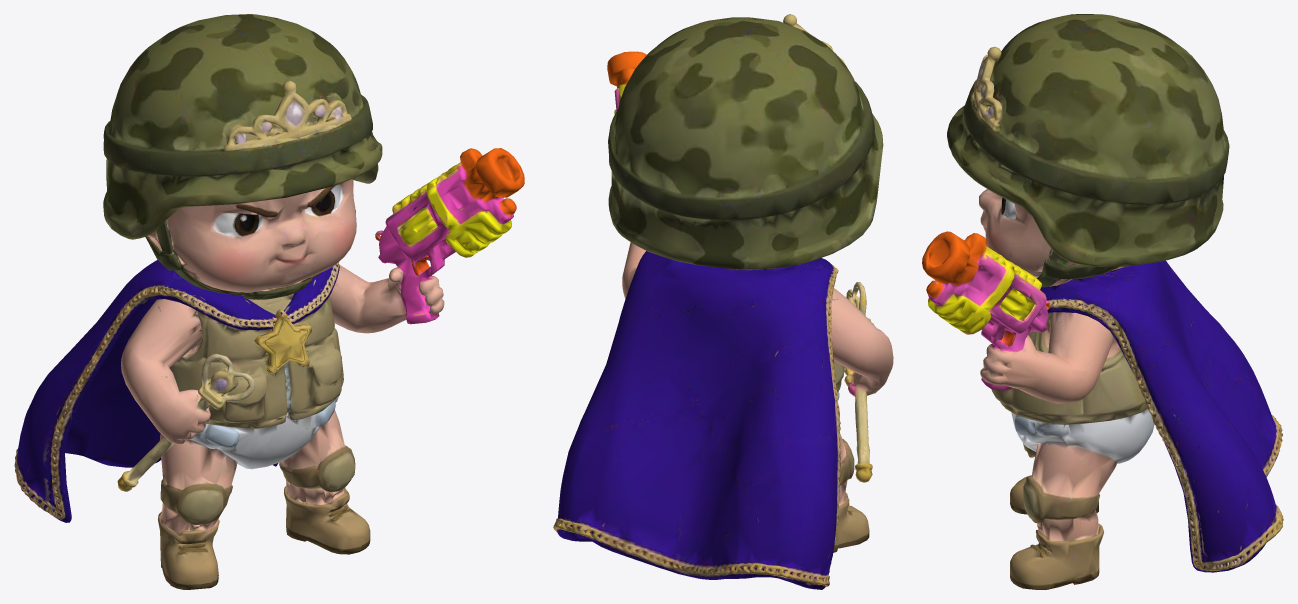
The picture shows the model from 3 angles, left to right: view 1: azimuth 30°, elevation 25°; view 2: azimuth 150°, elevation 25°; view 3: azimuth 270°, elevation 25°; orthographic projection.
Bounding box in the file's own units: 1.4 × 1.9 × 1.22.
1 material, 1 textured.
